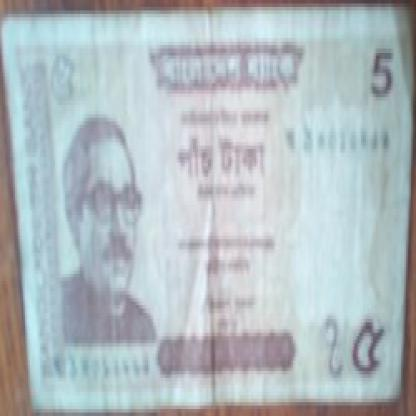Five Taka: (170, 135, 273, 187), (353, 305, 386, 392), (45, 42, 81, 108), (371, 42, 396, 97)
